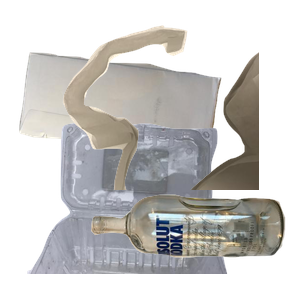glass: (88, 192, 300, 300)
paper: (17, 50, 231, 230)
plastic: (25, 120, 245, 300)
trash: (60, 23, 300, 203)
